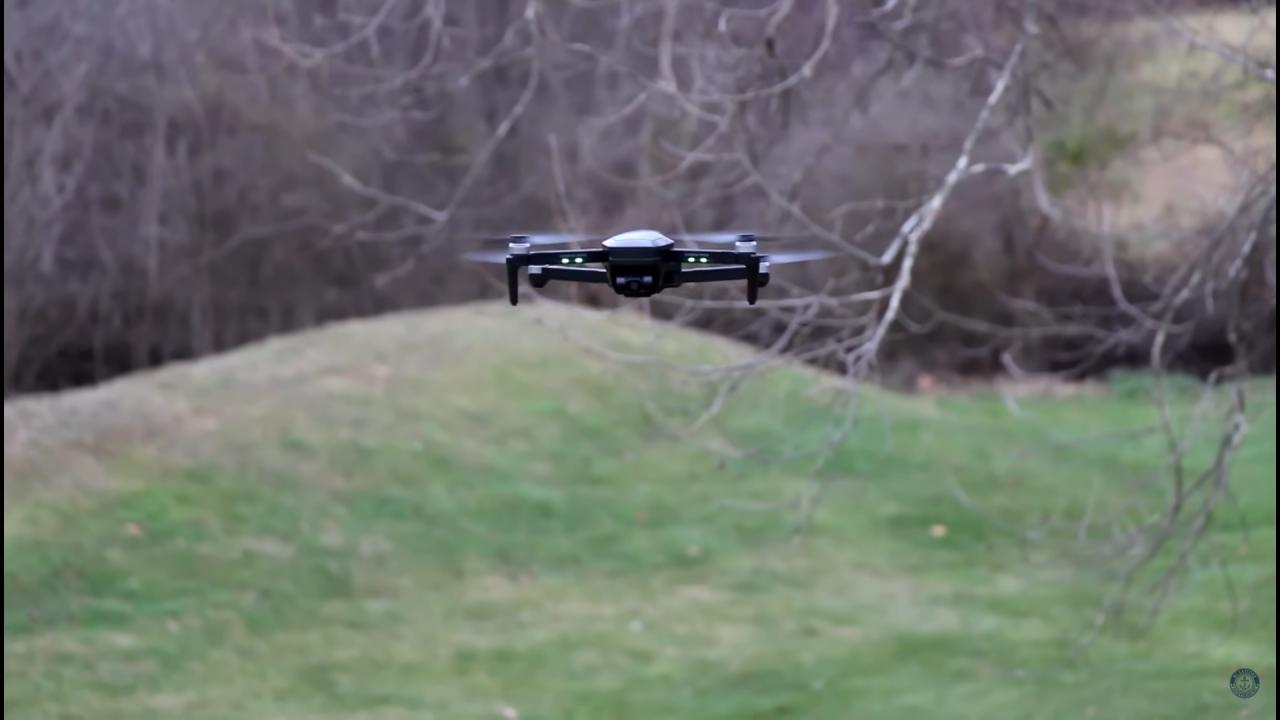Drone: (432, 204, 864, 318)
